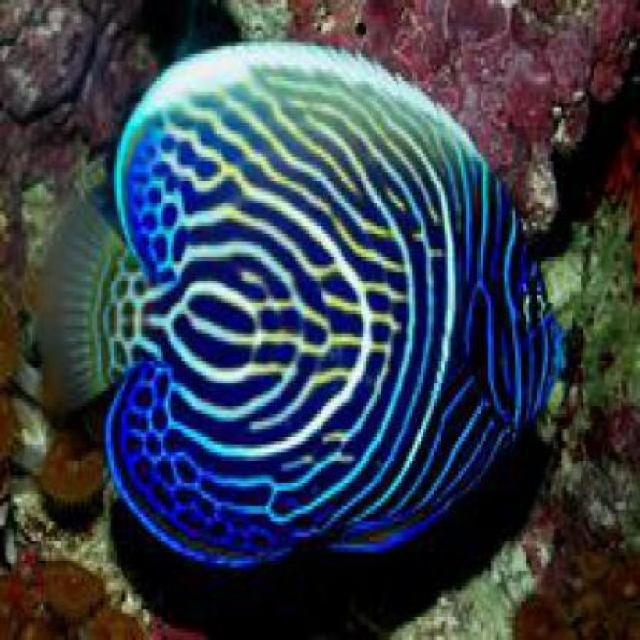AngelFish: (43, 42, 561, 568)
